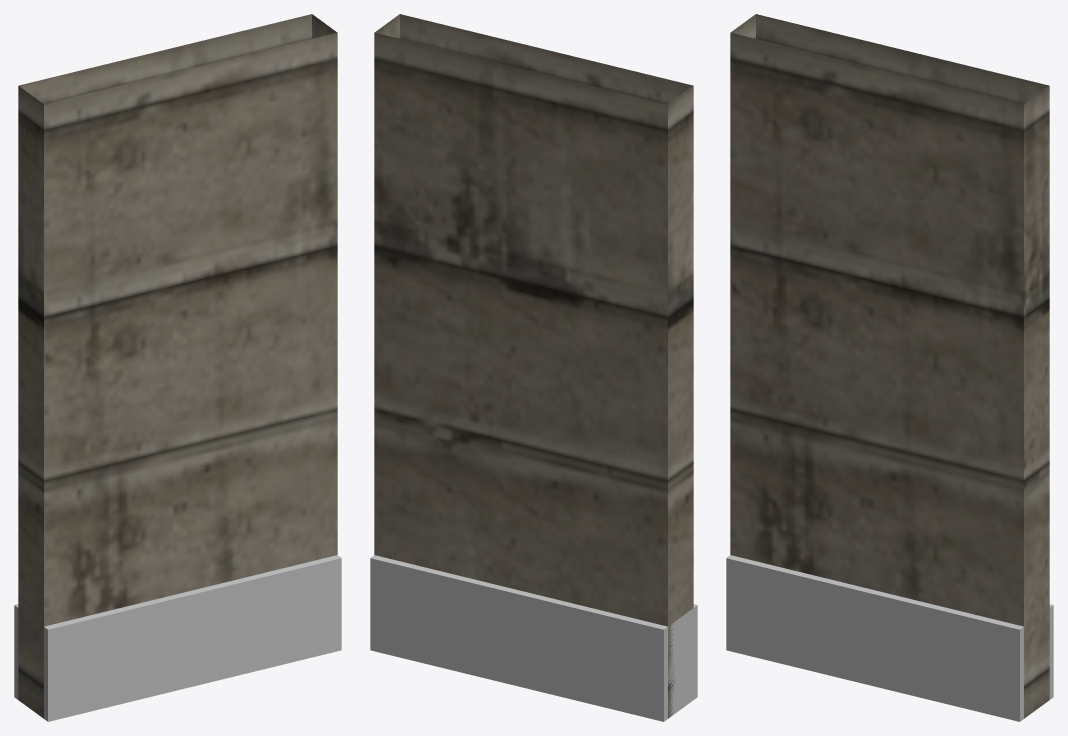
Rendered from MO_WALL_S-B_02.fbx.
3 renders of one model, left to right at view 1: azimuth 30°, elevation 25°; view 2: azimuth 150°, elevation 25°; view 3: azimuth 330°, elevation 25°, orthographic.
Visible parts, largest first — view 1: MO_WALL_S-B_02; view 2: MO_WALL_S-B_02; view 3: MO_WALL_S-B_02.
Boxes of the visible parts, x1,y1,x2,y2 form: MO_WALL_S-B_02: (14,14,341,721); MO_WALL_S-B_02: (370,14,697,721); MO_WALL_S-B_02: (726,14,1053,721).
Bounding box in the file's own units: 2 × 4 × 0.4.
